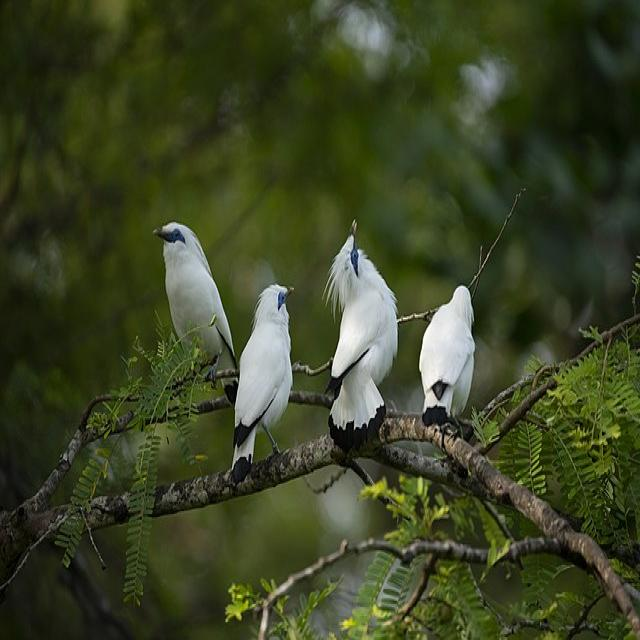Jalak Bali: (315, 215, 409, 471), (134, 200, 239, 381), (226, 270, 307, 492), (418, 275, 480, 454)
